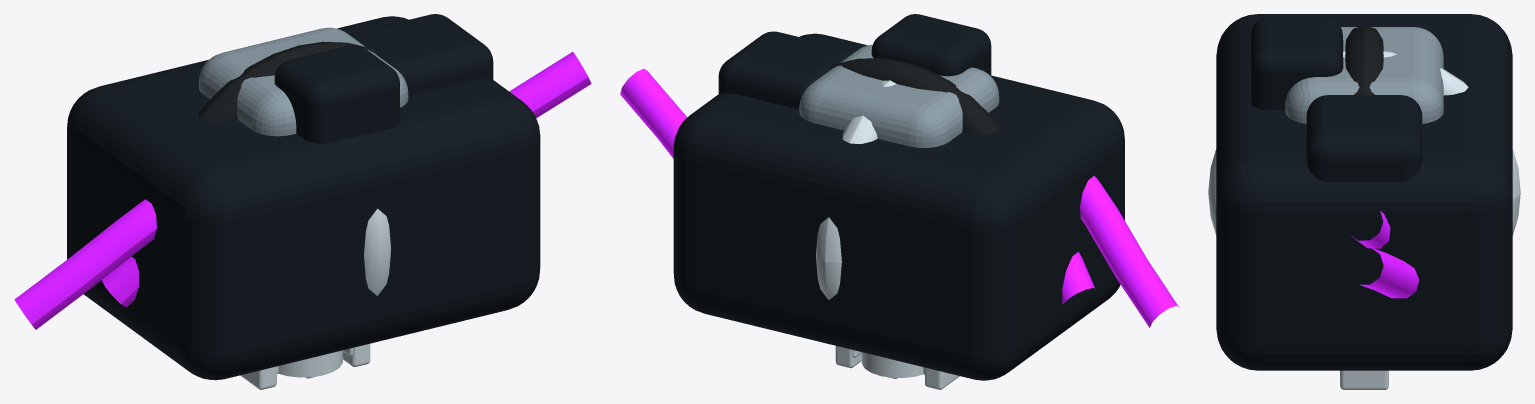
File: electrical_23.glb
3 views of the same model, side by side, from view 1: azimuth 30°, elevation 25°; view 2: azimuth 150°, elevation 25°; view 3: azimuth 270°, elevation 25° (orthographic). The views are drawn at different scales.
Parts seen in each view (by area): view 1: asset_mesh__electrical_1151__reference_body, asset_mesh__electrical_1148__electrical_connector, asset_mesh__electrical_1160__current_path, asset_mesh__electrical_1168__connector, asset_mesh__electrical_1168__sensor_body, asset_mesh__electrical_1159__service_element, asset_mesh__electrical_1149__functional_ring, asset_mesh__electrical_1145__current_path, asset_mesh__electrical_1168__sensor_probe, asset_mesh__electrical_1157__blade_1; view 2: asset_mesh__electrical_1151__reference_body, asset_mesh__electrical_1168__sensor_body, asset_mesh__electrical_1160__current_path, asset_mesh__electrical_1168__connector, asset_mesh__electrical_1148__electrical_connector, asset_mesh__electrical_1159__service_element, asset_mesh__electrical_1149__functional_ring, asset_mesh__electrical_1168__sensor_probe, asset_mesh__electrical_1145__current_path, asset_mesh__electrical_1157__blade_1; view 3: asset_mesh__electrical_1151__reference_body, asset_mesh__electrical_1168__connector, asset_mesh__electrical_1168__sensor_body, asset_mesh__electrical_1148__electrical_connector, asset_mesh__electrical_1159__service_element, asset_mesh__electrical_1149__functional_ring, asset_mesh__electrical_1160__current_path, asset_mesh__electrical_1157__blade_3, asset_mesh__electrical_1145__current_path.
Part boxes in pixels (bbox=[...]): asset_mesh__electrical_1151__reference_body: bbox=[67, 16, 540, 380]; asset_mesh__electrical_1148__electrical_connector: bbox=[274, 45, 399, 143]; asset_mesh__electrical_1160__current_path: bbox=[14, 52, 591, 329]; asset_mesh__electrical_1168__connector: bbox=[350, 14, 493, 95]; asset_mesh__electrical_1168__sensor_body: bbox=[199, 27, 408, 136]; asset_mesh__electrical_1159__service_element: bbox=[198, 41, 376, 122]; asset_mesh__electrical_1149__functional_ring: bbox=[287, 48, 390, 295]; asset_mesh__electrical_1145__current_path: bbox=[101, 256, 138, 307]; asset_mesh__electrical_1168__sensor_probe: bbox=[278, 350, 342, 377]; asset_mesh__electrical_1157__blade_1: bbox=[240, 366, 276, 389]; asset_mesh__electrical_1151__reference_body: bbox=[673, 33, 1124, 380]; asset_mesh__electrical_1168__sensor_body: bbox=[799, 44, 999, 147]; asset_mesh__electrical_1160__current_path: bbox=[620, 69, 1179, 327]; asset_mesh__electrical_1168__connector: bbox=[718, 31, 854, 109]; asset_mesh__electrical_1148__electrical_connector: bbox=[871, 14, 991, 76]; asset_mesh__electrical_1159__service_element: bbox=[829, 58, 999, 134]; asset_mesh__electrical_1149__functional_ring: bbox=[816, 80, 896, 299]; asset_mesh__electrical_1168__sensor_probe: bbox=[862, 352, 923, 377]; asset_mesh__electrical_1145__current_path: bbox=[1062, 252, 1095, 304]; asset_mesh__electrical_1157__blade_1: bbox=[925, 367, 959, 389]; asset_mesh__electrical_1151__reference_body: bbox=[1216, 14, 1512, 370]; asset_mesh__electrical_1168__connector: bbox=[1306, 95, 1422, 182]; asset_mesh__electrical_1168__sensor_body: bbox=[1285, 27, 1443, 123]; asset_mesh__electrical_1148__electrical_connector: bbox=[1251, 16, 1342, 109]; asset_mesh__electrical_1159__service_element: bbox=[1345, 25, 1383, 95]; asset_mesh__electrical_1149__functional_ring: bbox=[1208, 51, 1520, 235]; asset_mesh__electrical_1160__current_path: bbox=[1359, 247, 1419, 298]; asset_mesh__electrical_1157__blade_3: bbox=[1340, 370, 1388, 389]; asset_mesh__electrical_1145__current_path: bbox=[1351, 211, 1390, 248].
Size of the model in its own units: 1.73 by 0.9518 by 0.815.
